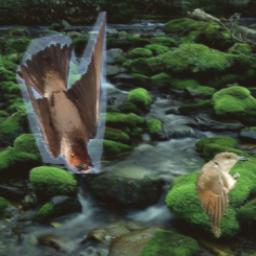Cuckoo: (195, 153, 251, 239)
Swallow: (17, 13, 107, 174)
